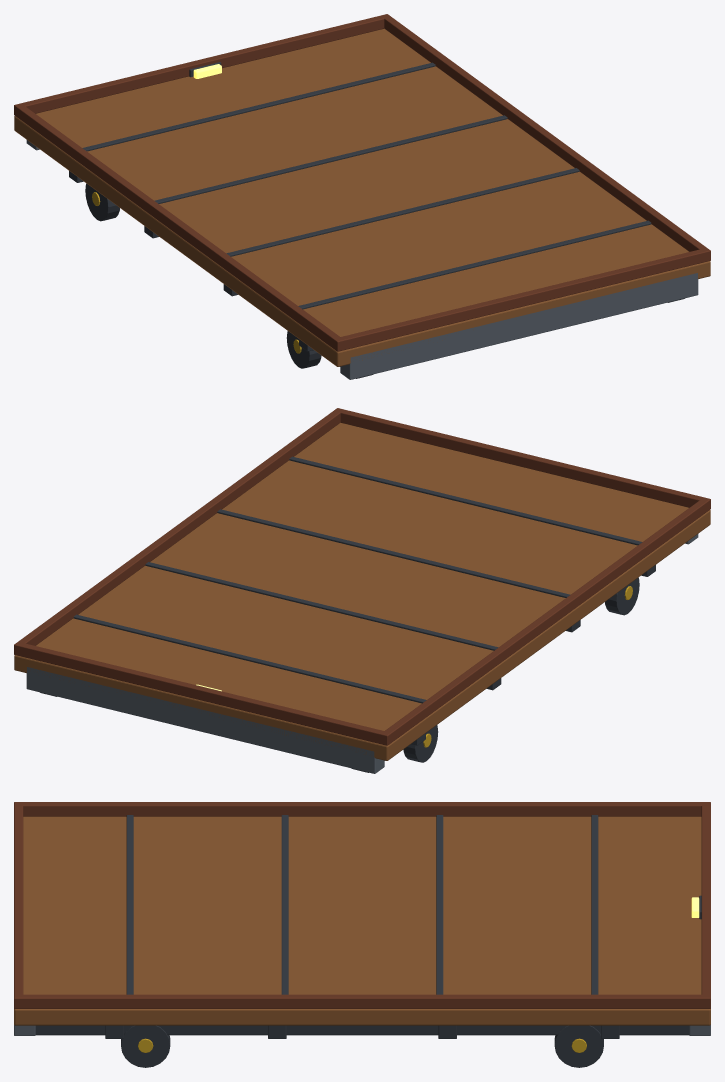
Rendered from mine_cart_unit.glb.
3 renders of one model, top to bottom at view 1: azimuth 30°, elevation 25°; view 2: azimuth 150°, elevation 25°; view 3: azimuth 270°, elevation 25°, orthographic. The views are drawn at different scales.
Visible parts, largest first — view 1: CART-deck, CART-buffer--1, CART-rim-left, CART-rim-right, CART-rim-back, CART-rim-front, CART-deck-strip-3, CART-deck-strip-0, CART-deck-strip-1, CART-deck-strip-2, CART-wheel-1--1, CART-wheel-0--1; view 2: CART-deck, CART-buffer-1, CART-rim-left, CART-rim-right, CART-rim-front, CART-rim-back, CART-deck-strip-0, CART-deck-strip-2, CART-deck-strip-3, CART-deck-strip-1, CART-wheel-0--1, CART-wheel-1--1; view 3: CART-deck, CART-rim-right, CART-rim-left, CART-beam-long-1, CART-rim-front, CART-rim-back, CART-wheel-0-1, CART-wheel-1-1, CART-deck-strip-0, CART-deck-strip-1, CART-deck-strip-2, CART-deck-strip-3.
Part boxes in pixels (bbox=[...]): CART-deck: bbox=[14, 28, 710, 366]; CART-buffer--1: bbox=[340, 273, 698, 379]; CART-rim-left: bbox=[14, 103, 344, 351]; CART-rim-right: bbox=[383, 14, 709, 261]; CART-rim-back: bbox=[333, 248, 710, 351]; CART-rim-front: bbox=[14, 14, 390, 116]; CART-deck-strip-3: bbox=[82, 62, 435, 151]; CART-deck-strip-0: bbox=[298, 220, 651, 309]; CART-deck-strip-1: bbox=[226, 168, 579, 256]; CART-deck-strip-2: bbox=[154, 115, 507, 203]; CART-wheel-1--1: bbox=[85, 183, 119, 221]; CART-wheel-0--1: bbox=[286, 331, 321, 368]; CART-deck: bbox=[14, 422, 710, 760]; CART-buffer-1: bbox=[26, 667, 384, 773]; CART-rim-left: bbox=[380, 497, 710, 745]; CART-rim-right: bbox=[14, 408, 340, 655]; CART-rim-front: bbox=[14, 642, 391, 745]; CART-rim-back: bbox=[334, 408, 710, 510]; CART-deck-strip-0: bbox=[289, 456, 642, 545]; CART-deck-strip-2: bbox=[145, 562, 498, 650]; CART-deck-strip-3: bbox=[73, 614, 426, 703]; CART-deck-strip-1: bbox=[217, 509, 570, 597]; CART-wheel-0--1: bbox=[605, 577, 639, 615]; CART-wheel-1--1: bbox=[403, 725, 438, 762]; CART-deck: bbox=[14, 816, 710, 1025]; CART-rim-right: bbox=[14, 994, 710, 1008]; CART-rim-left: bbox=[15, 802, 708, 816]; CART-beam-long-1: bbox=[35, 1025, 689, 1035]; CART-rim-front: bbox=[701, 802, 710, 1008]; CART-rim-back: bbox=[14, 802, 23, 1008]; CART-wheel-0-1: bbox=[121, 1025, 170, 1067]; CART-wheel-1-1: bbox=[554, 1025, 603, 1067]; CART-deck-strip-0: bbox=[126, 815, 133, 994]; CART-deck-strip-1: bbox=[281, 815, 288, 994]; CART-deck-strip-2: bbox=[436, 815, 443, 994]; CART-deck-strip-3: bbox=[591, 815, 598, 994].
Size of the model in its own units: 6 by 1.16 by 9.
